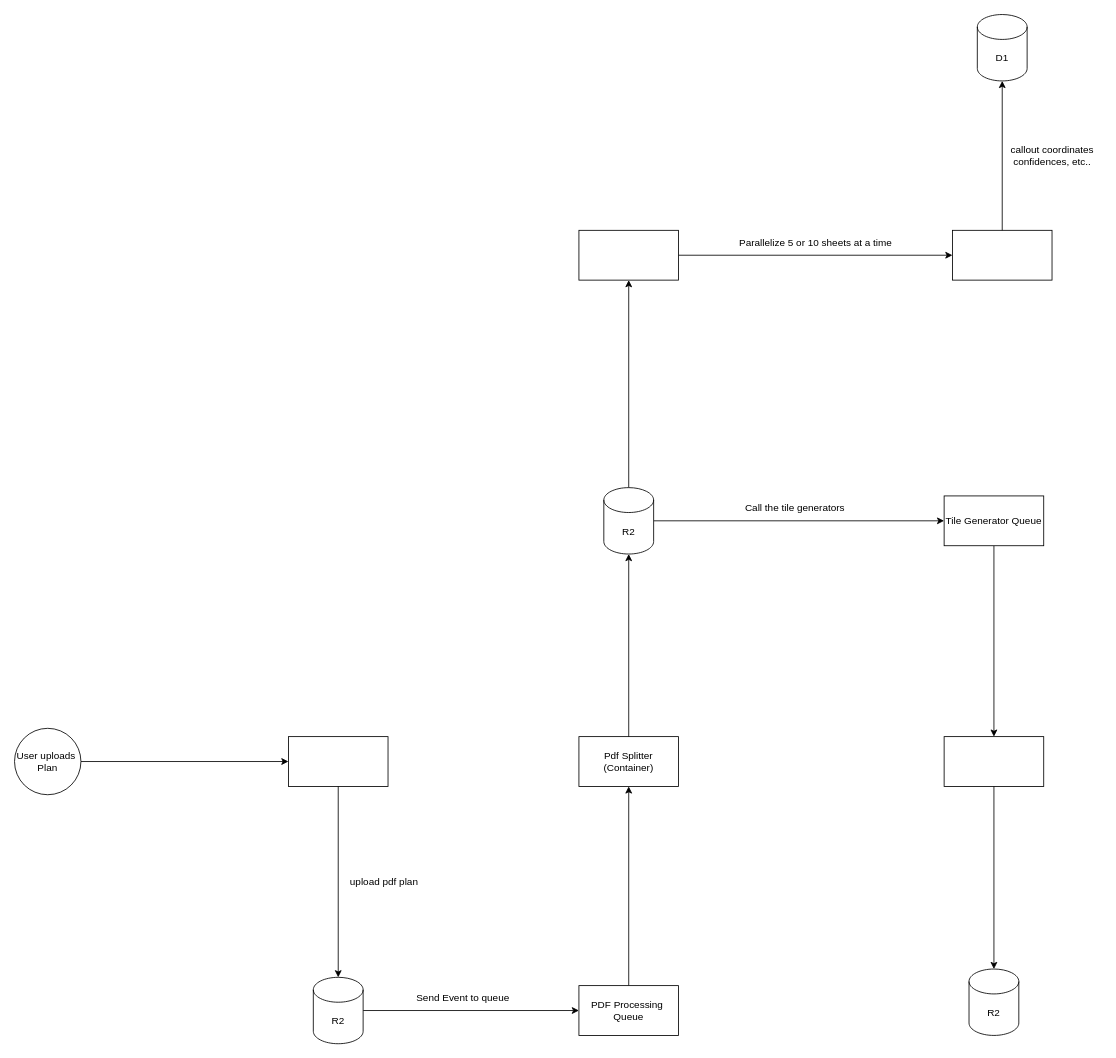
Some shapes in this 1116 by 1058 pixel diagram are drawn without their labels. Here are the shapes that lost their labels. From the top down, the centre of each, then its label:
(628,254): Callout Processing Queue
(1002,254): Callout Processor (Container)
(338,761): Plan Service
(993,761): Generate multiple Deep Zoom Images (Container)
